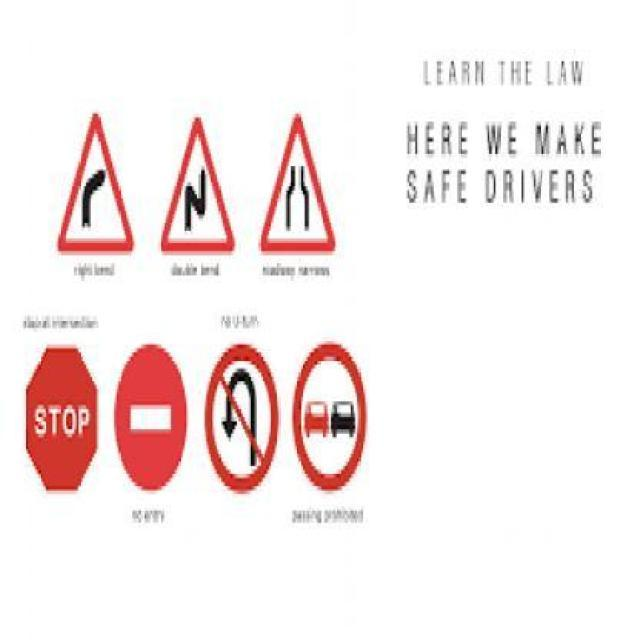warn_double_curve: (157, 114, 237, 256)
warn_right_curve: (52, 110, 139, 259)
